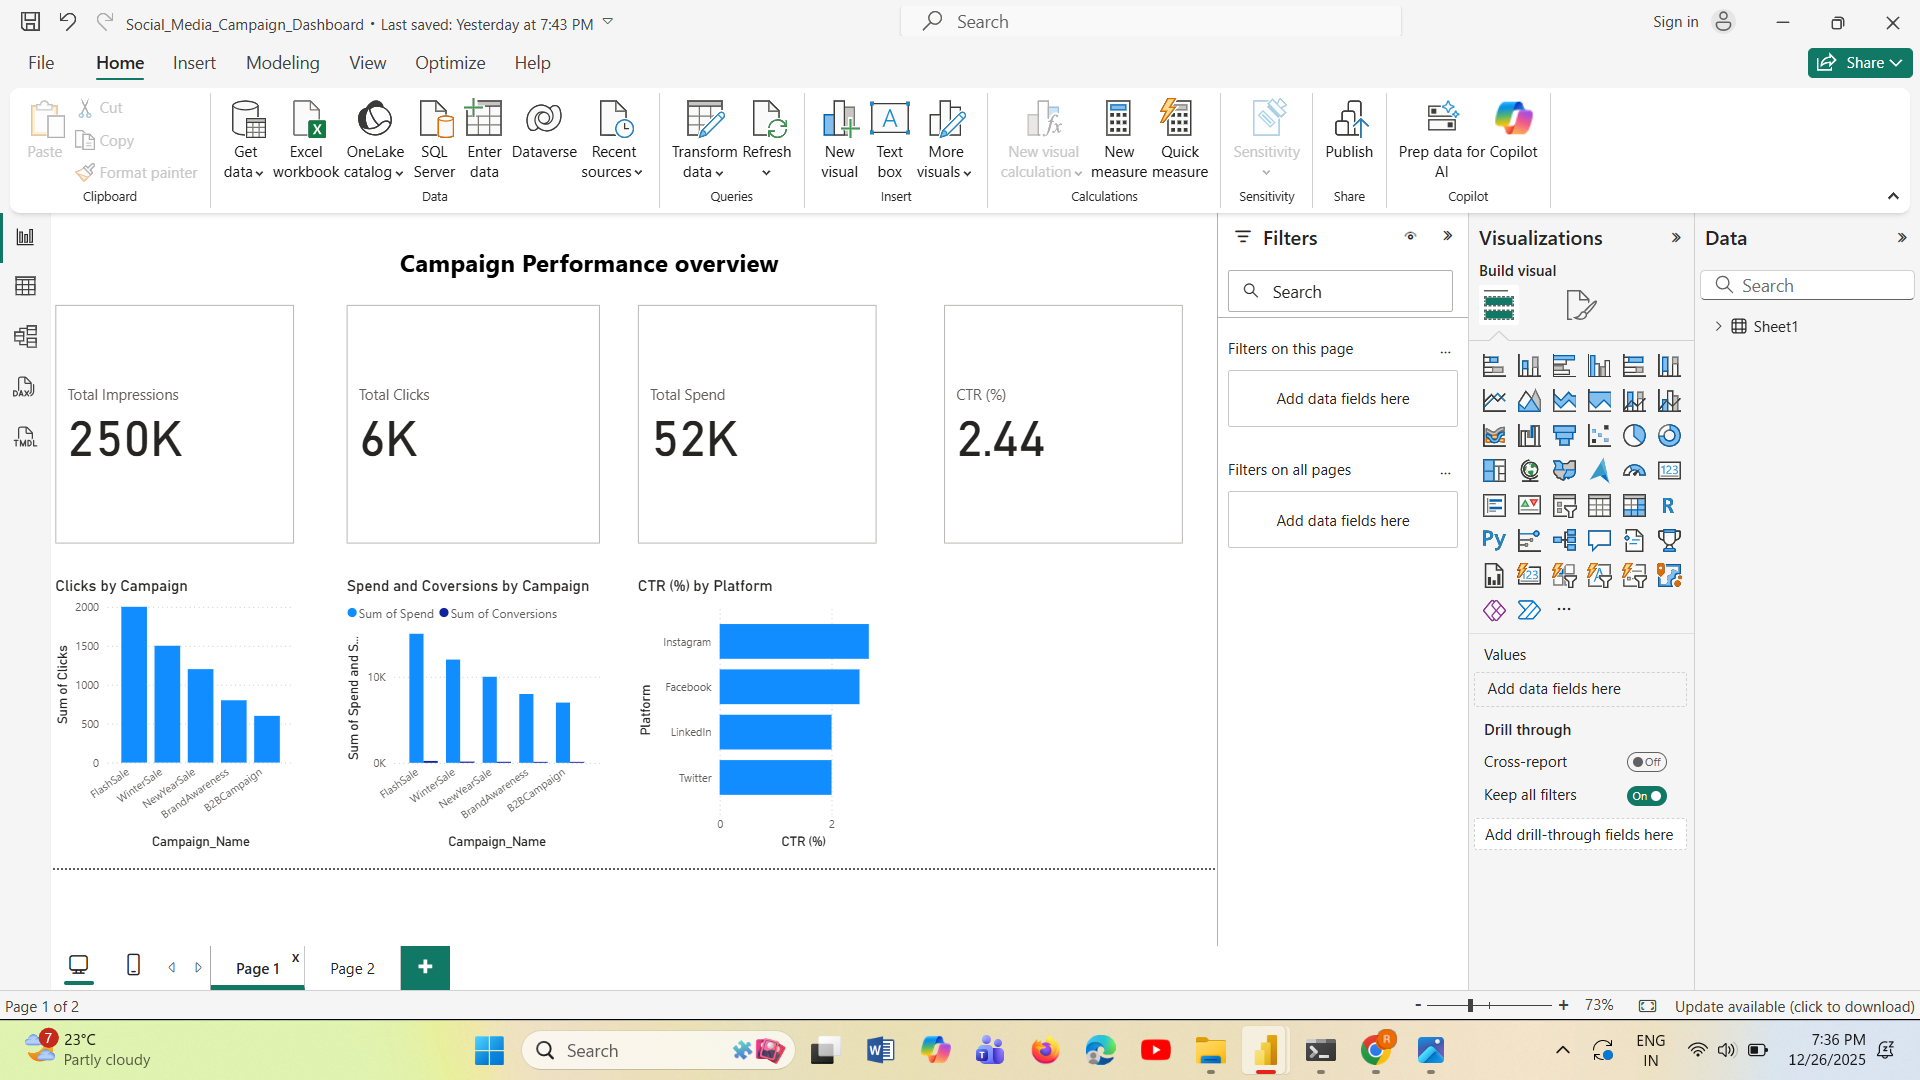

Layout of this report page (visuals, bound fields, positions):
{"tool":"powerbi","page":{"name":"Page 1","canvas":[1280,720],"ordinal":0},"visuals":[{"type":"cardVisual","fields":{"Data":["Sheet1.Total Impressions"]},"box":[0,96,272,272],"z":0},{"type":"cardVisual","fields":{"Data":["Sheet1.Total Clicks"]},"box":[320,96,288,272],"z":1000},{"type":"cardVisual","fields":{"Data":["Sheet1.Total Spend"]},"box":[640,96,272,272],"z":2000},{"type":"cardVisual","fields":{"Data":["Sheet1.CTR (%)"]},"box":[976,96,272,272],"z":3000},{"type":"clusteredColumnChart","title":"Clicks by Campaign","fields":{"Category":["Sheet1.Campaign_Name"],"Y":["Sum(Sheet1.Clicks)"]},"box":[0,400,272,304],"z":4000},{"type":"lineClusteredColumnComboChart","title":"Spend and Coversions by Campaign","fields":{"Category":["Sheet1.Campaign_Name"],"Y":["Sum(Sheet1.Spend)","Sum(Sheet1.Conversions)"]},"box":[320,400,288,304],"z":5000},{"type":"clusteredBarChart","fields":{"Category":["Sheet1.Platform"],"Y":["Sheet1.CTR (%)"]},"box":[640,400,288,304],"z":6000},{"type":"textbox","box":[304,32,608,64],"z":6001}]}

Visuals, with their boxes on the page's 1280x720 design canvas (x1, y1, x2, y2). These are canvas units, not pixel positions in the 1920x1080 screenshot, which may show the page scaled, cropped or inside an application window:
cardVisual - Sheet1.Total Impressions: (left=0, top=96, right=272, bottom=368)
cardVisual - Sheet1.Total Clicks: (left=320, top=96, right=608, bottom=368)
cardVisual - Sheet1.Total Spend: (left=640, top=96, right=912, bottom=368)
cardVisual - Sheet1.CTR (%): (left=976, top=96, right=1248, bottom=368)
"Clicks by Campaign" clusteredColumnChart: (left=0, top=400, right=272, bottom=704)
"Spend and Coversions by Campaign" lineClusteredColumnComboChart: (left=320, top=400, right=608, bottom=704)
clusteredBarChart - Sheet1.Platform x Sheet1.CTR (%): (left=640, top=400, right=928, bottom=704)
textbox: (left=304, top=32, right=912, bottom=96)
